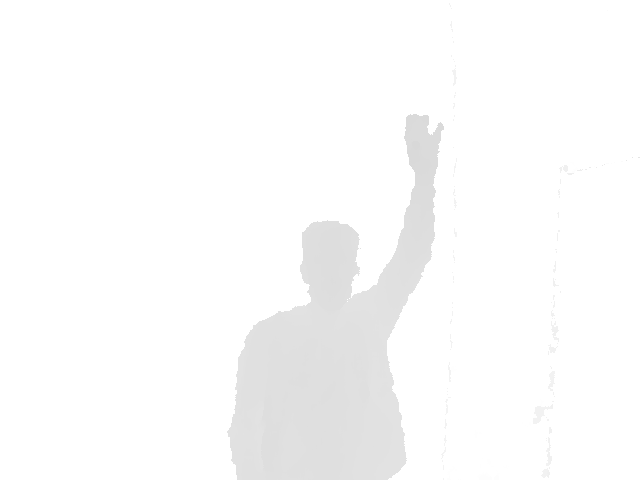hand: (403, 113, 445, 176)
head: (299, 219, 361, 311)
person: (226, 112, 445, 480)
